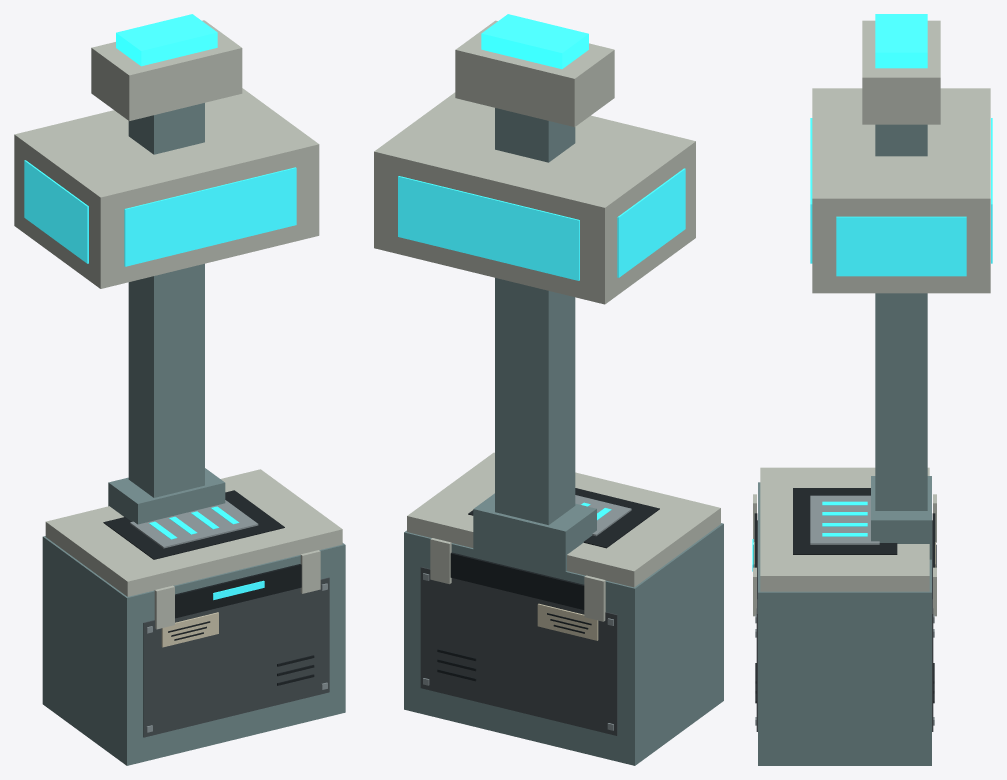
Rendered from build70-access-receiver.glb.
3 renders of one model, left to right at view 1: azimuth 30°, elevation 25°; view 2: azimuth 150°, elevation 25°; view 3: azimuth 270°, elevation 25°, orthographic. The views are drawn at different scales.
Visible parts, largest first — view 1: Archive identity crown, Cabinet, Mast, Inset service panel, Top docking rim, Crown cyan inset, Beacon housing, Crown side inset, Beacon, Mast foot, Hand recess, Cassette socket (+4 smaller); view 2: Archive identity crown, Cabinet, Mast, Inset service panel.001, Top docking rim, Crown cyan inset.001, Beacon housing, Mast foot, Crown side inset, Beacon, Hand recess.001, Cassette socket (+4 smaller); view 3: Cabinet, Archive identity crown, Mast, Top docking rim, Crown side inset.001, Beacon housing, Beacon, Cassette socket, MemoryCassette, Mast foot, Crown cyan inset.
Boxes of the visible parts, <box> form: Archive identity crown: <box>14,88,319,288</box>; Cabinet: <box>42,536,345,765</box>; Mast: <box>128,103,204,497</box>; Inset service panel: <box>143,577,329,737</box>; Top docking rim: <box>45,469,342,596</box>; Crown cyan inset: <box>124,167,296,266</box>; Beacon housing: <box>91,20,242,120</box>; Crown side inset: <box>24,160,88,263</box>; Beacon: <box>116,14,217,66</box>; Mast foot: <box>108,468,225,524</box>; Hand recess: <box>175,564,301,618</box>; Cassette socket: <box>103,490,284,559</box>; Archive identity crown: <box>374,92,695,304</box>; Cabinet: <box>404,523,723,765</box>; Mast: <box>495,108,575,525</box>; Inset service panel.001: <box>420,567,617,735</box>; Top docking rim: <box>407,452,720,587</box>; Crown cyan inset.001: <box>398,176,579,280</box>; Beacon housing: <box>455,20,614,127</box>; Mast foot: <box>473,493,596,571</box>; Crown side inset: <box>617,168,685,277</box>; Beacon: <box>481,14,588,69</box>; Hand recess.001: <box>450,552,584,609</box>; Cassette socket: <box>468,488,659,548</box>; Cabinet: <box>758,482,931,765</box>; Archive identity crown: <box>812,88,990,293</box>; Mast: <box>875,124,927,510</box>; Top docking rim: <box>760,467,929,591</box>; Crown side inset.001: <box>836,216,966,276</box>; Beacon housing: <box>862,20,940,124</box>; Beacon: <box>875,14,927,68</box>; Cassette socket: <box>793,488,897,554</box>; MemoryCassette: <box>810,495,879,544</box>; Mast foot: <box>871,476,931,559</box>; Crown cyan inset: <box>810,118,812,263</box>.
Size of the model in its own units: 1.22 by 3.44 by 1.11.
